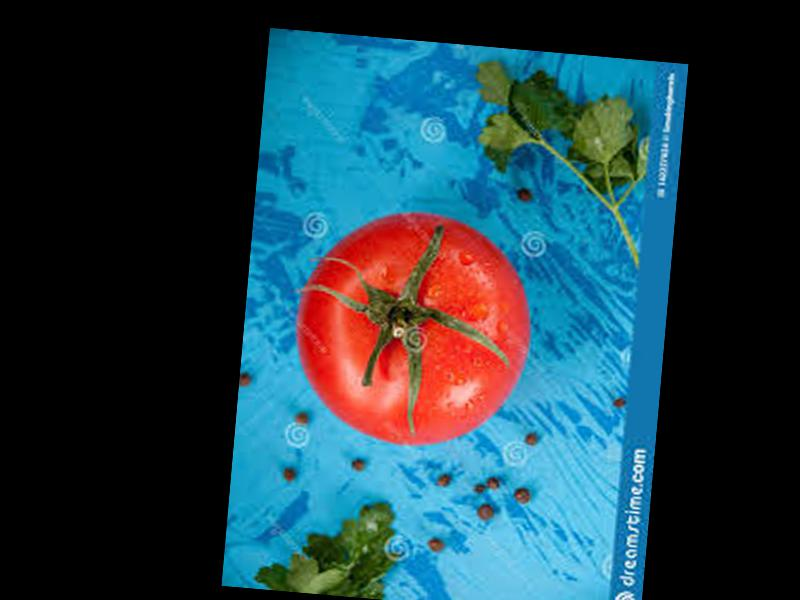Tomato: (288, 202, 539, 454)
